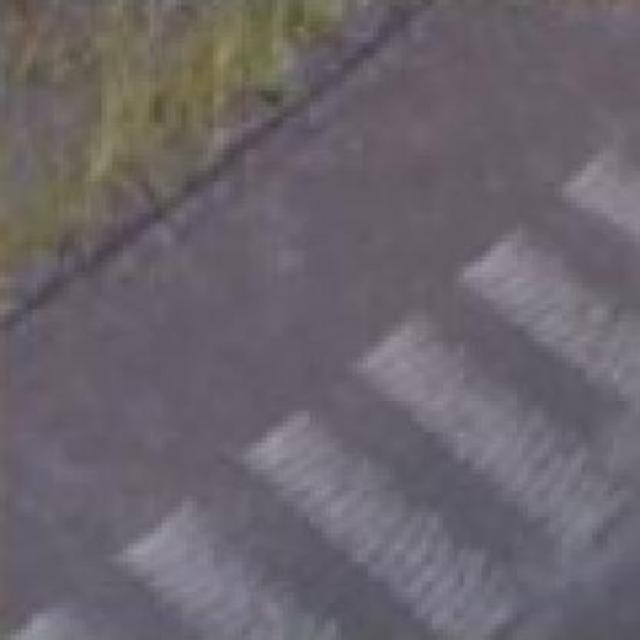crosswalk: (13, 109, 640, 636)
